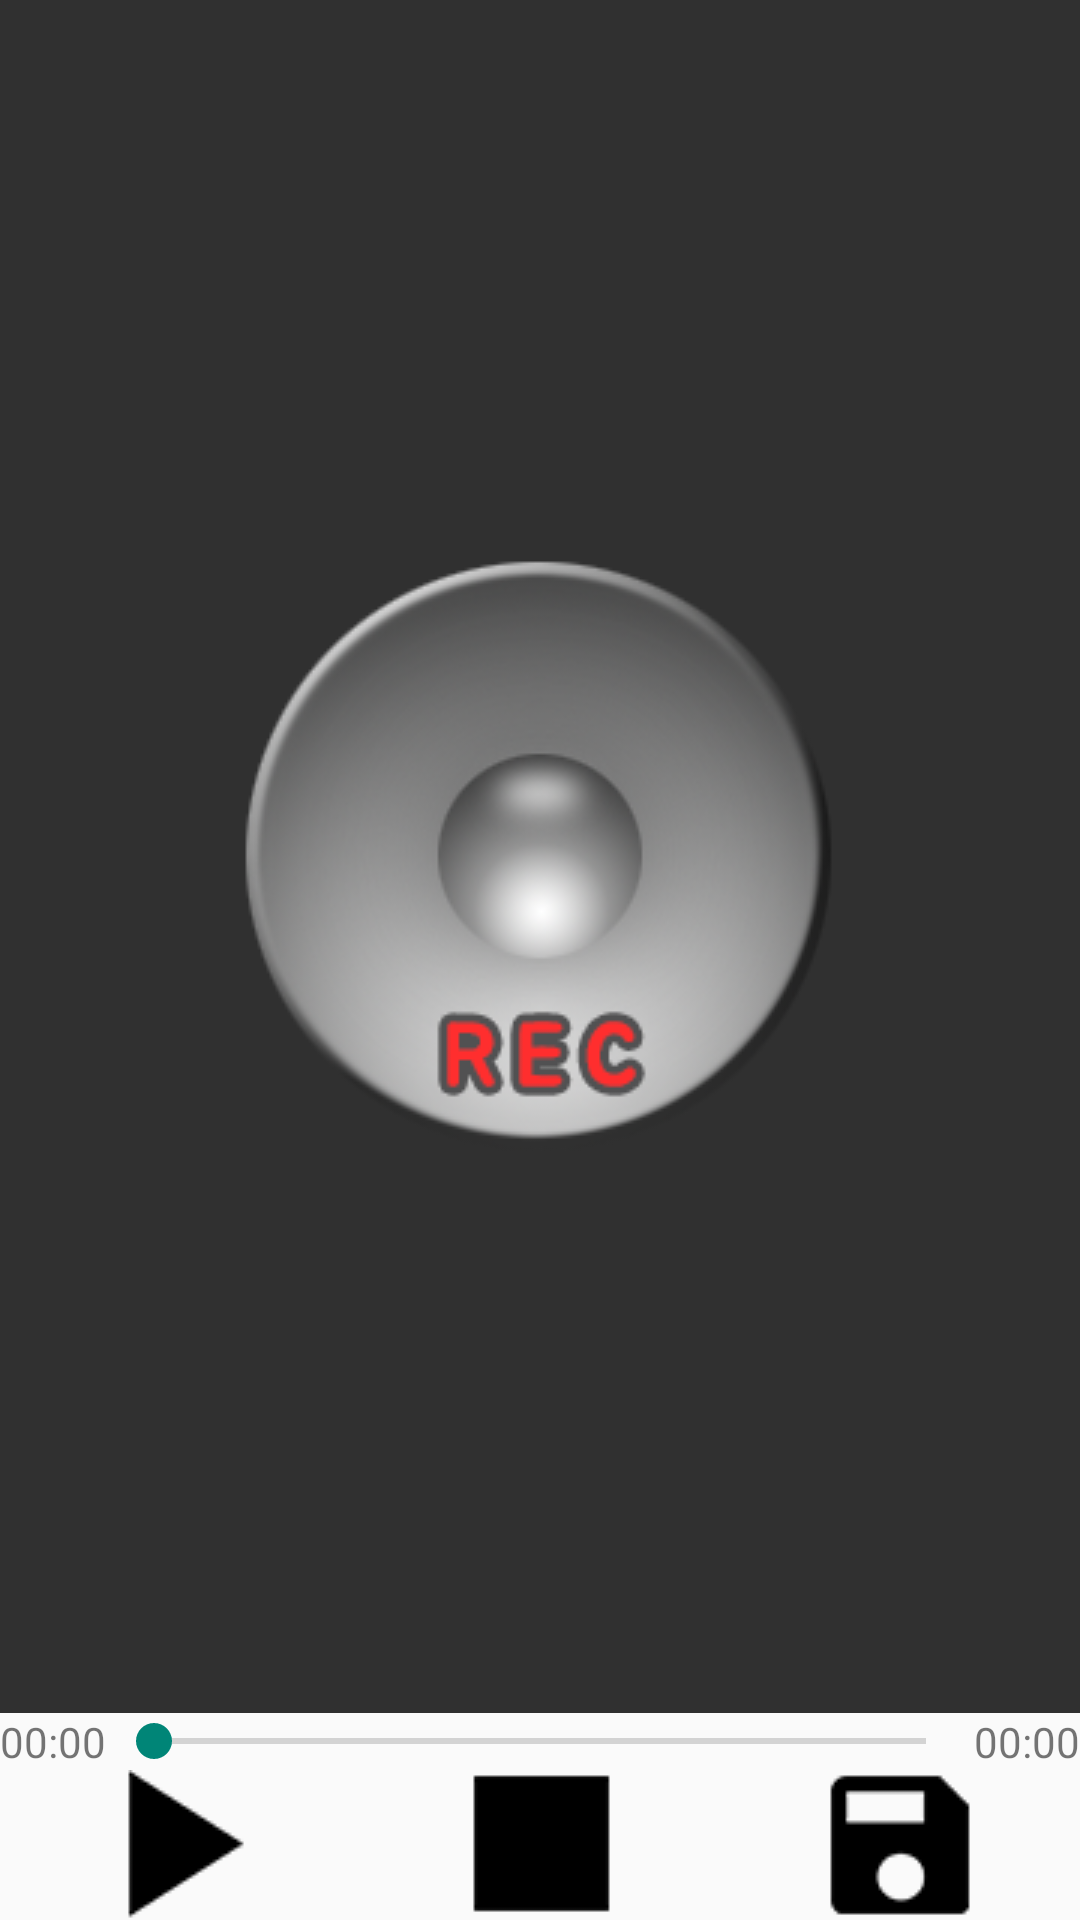

Point at icon controls on the screen. Image size 1080*1920, points as point (x, y).
play: point (186, 1844)
save: point (900, 1845)
stop: point (541, 1843)
